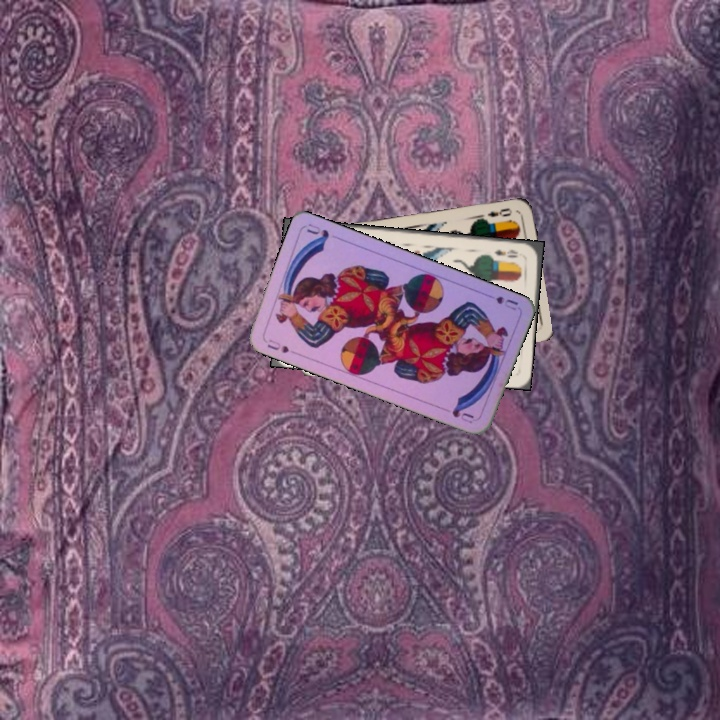EO: (483, 204, 514, 220), (491, 245, 521, 260)
SU: (481, 289, 521, 313), (263, 335, 291, 356)
